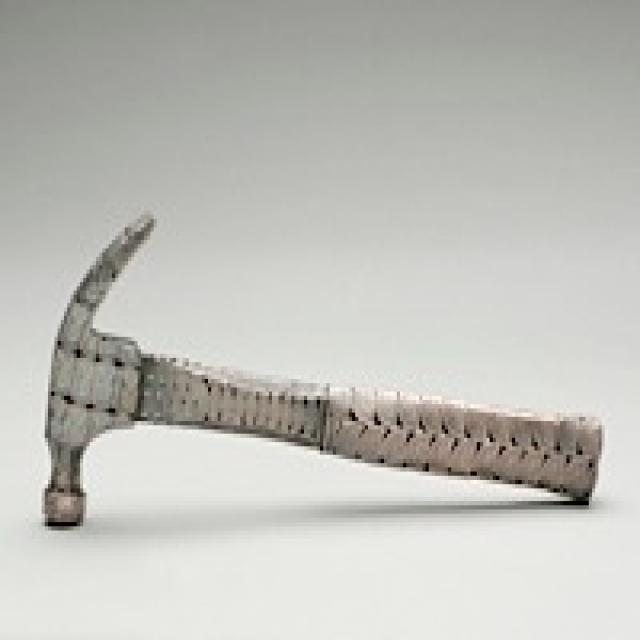hammer: (23, 188, 607, 548)
